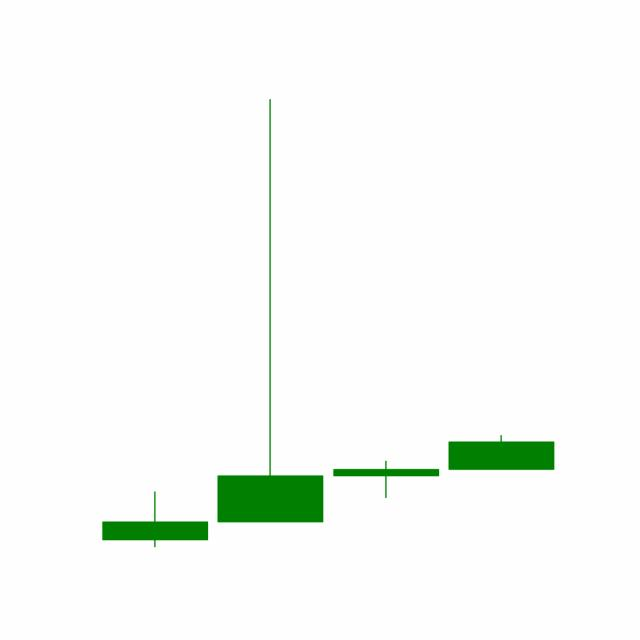Dragonfly Doji: (328, 459, 444, 498)
